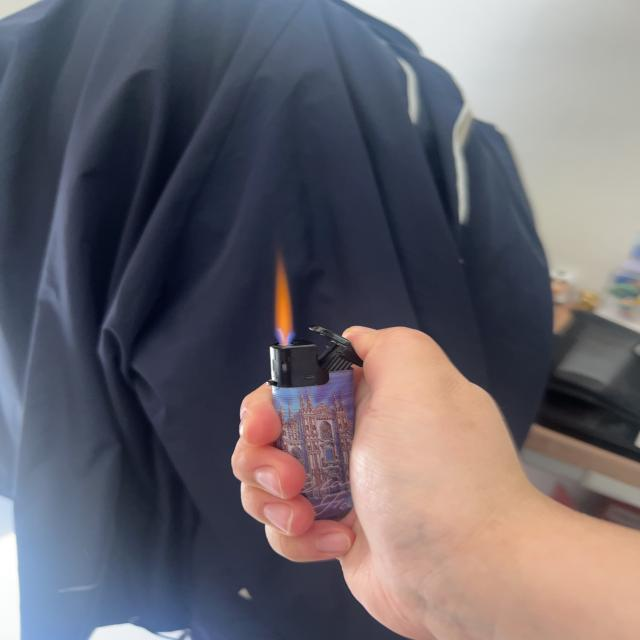fire: (270, 248, 297, 346)
